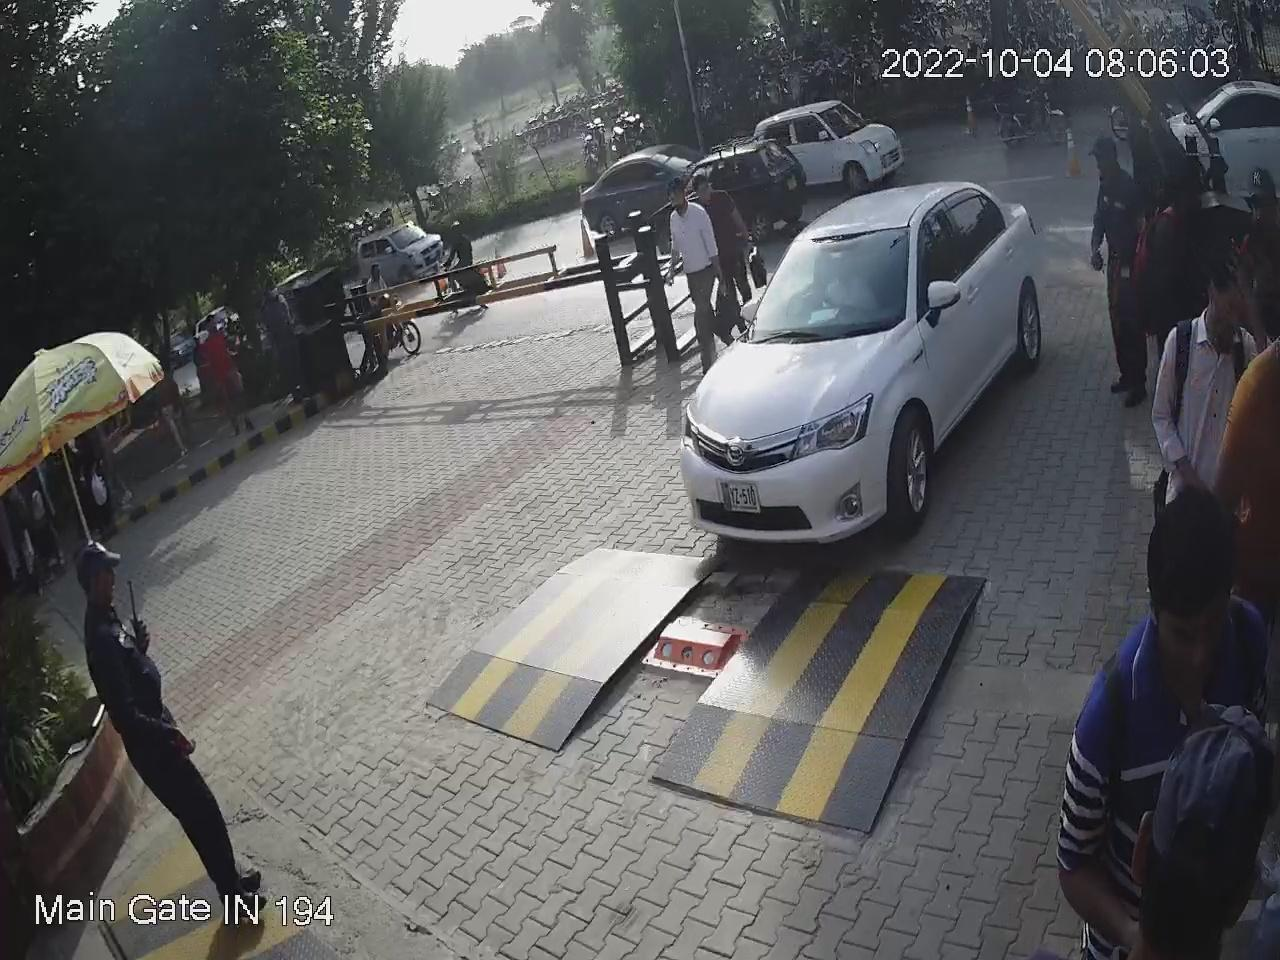windshield: (746, 215, 925, 338)
